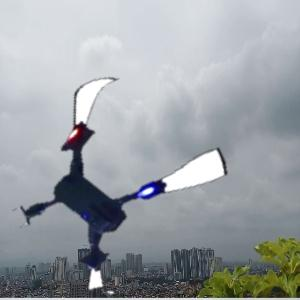drone: (3, 67, 226, 290)
